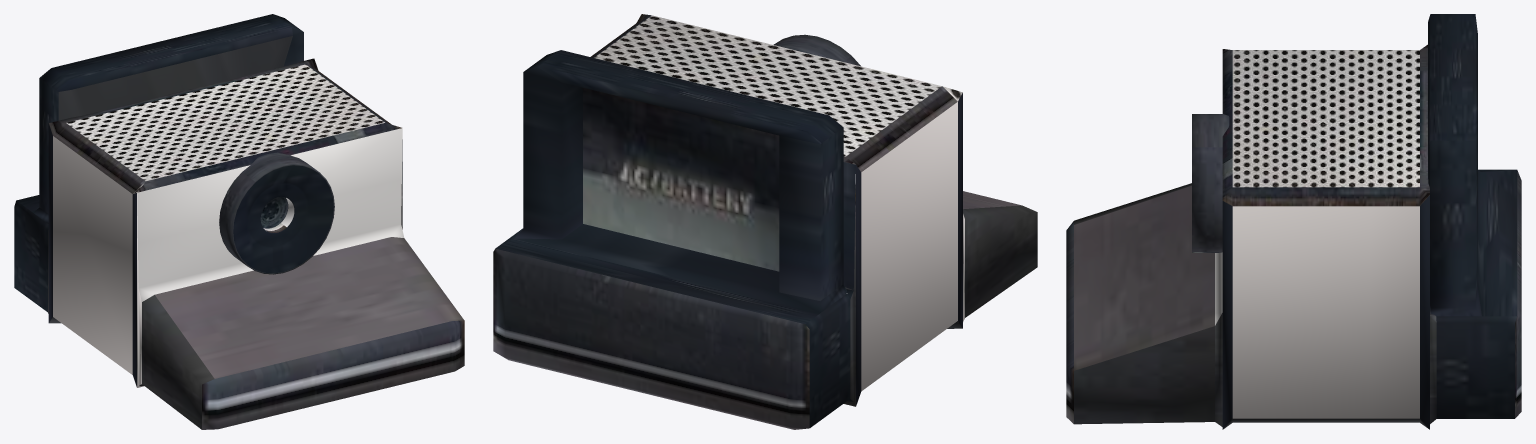
Rendered from Camera.fbx.
3 renders of one model, left to right at view 1: azimuth 30°, elevation 25°; view 2: azimuth 150°, elevation 25°; view 3: azimuth 270°, elevation 25°, orthographic. The views are drawn at different scales.
Parts seen in each view (by area): view 1: Cube.017; view 2: Cube.017; view 3: Cube.017.
Boxes of the visible parts, x1,y1,x2,y2 form: Cube.017: (14, 14, 464, 429); Cube.017: (493, 14, 1037, 429); Cube.017: (1066, 14, 1521, 429).
Size of the model in its own units: 347 by 295 by 439.
